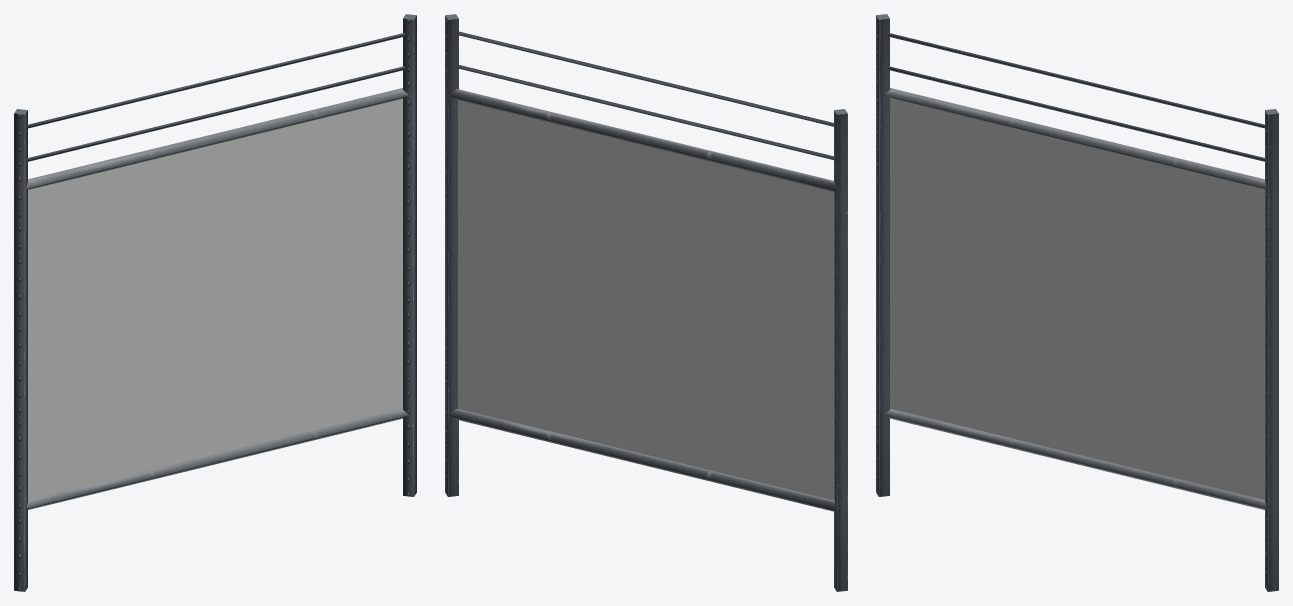
Rendered from fence_02.fbx.
3 views of the same model, side by side, from view 1: azimuth 30°, elevation 25°; view 2: azimuth 150°, elevation 25°; view 3: azimuth 330°, elevation 25° (orthographic).
Visible parts, largest first — view 1: mesh, fence_02; view 2: mesh, fence_02; view 3: mesh, fence_02.
Part boxes in pixels (<box>): mesh: <box>28,98,402,499</box>; fence_02: <box>14,14,416,591</box>; mesh: <box>458,100,834,500</box>; fence_02: <box>445,14,847,591</box>; mesh: <box>890,98,1264,499</box>; fence_02: <box>876,14,1278,591</box>.
Bounding box in the file's own units: 4.89 × 5.53 × 0.1711.
